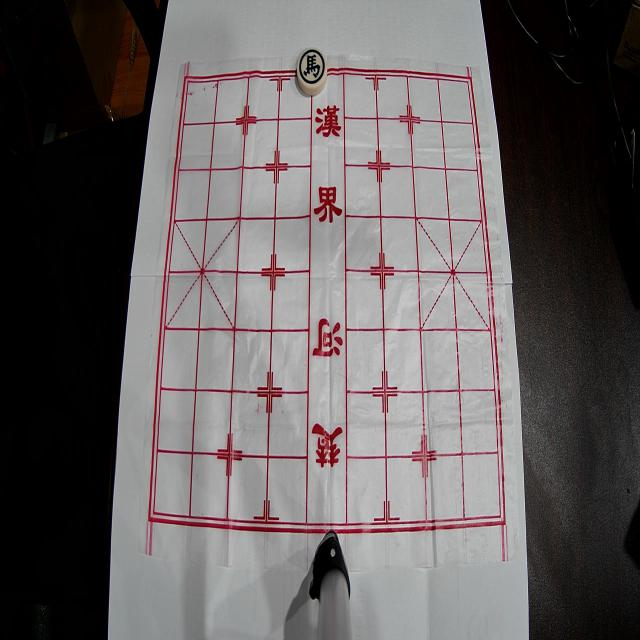black-horse: (297, 46, 327, 96)
